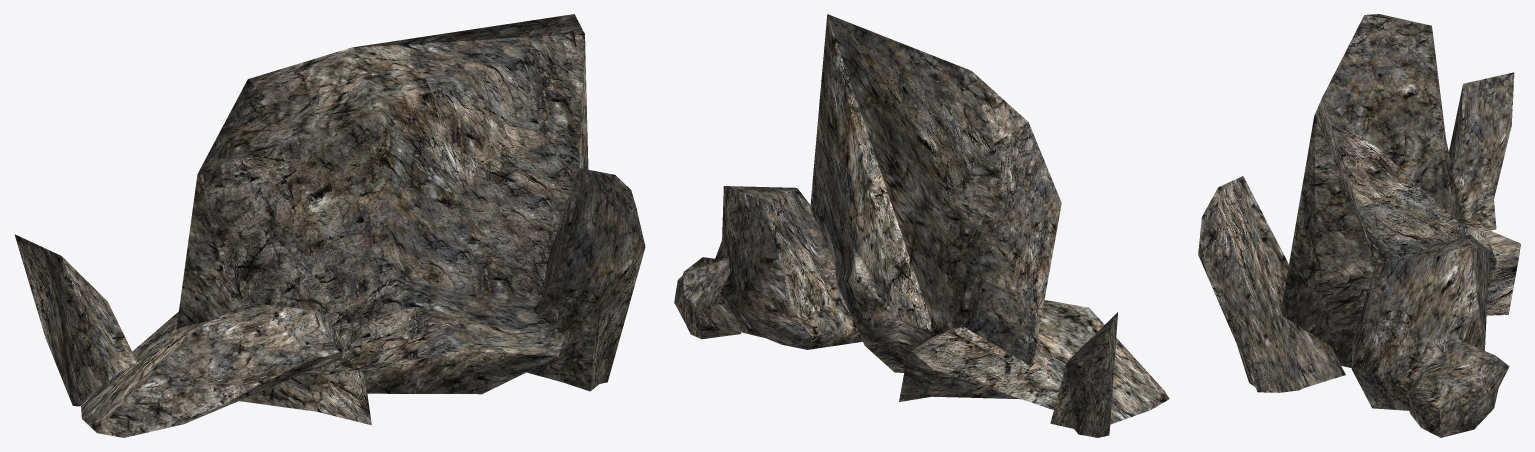
The model's file is pir_m_prp_cav_rockGroup_c.fbx.
The picture shows the model from 3 angles, left to right: view 1: azimuth 30°, elevation 25°; view 2: azimuth 150°, elevation 25°; view 3: azimuth 270°, elevation 25°; orthographic projection. The views are drawn at different scales.
Visible parts, largest first — view 1: bigrock2, small_rock4, small_rock3, small_rock5; view 2: bigrock2, bigrock, small_rock4, small_rock5, middle_rock1; view 3: bigrock2, bigrock, small_rock3, small_rock5, middle_rock1, small_rock4.
Boxes of the visible parts, bbox=[...] form: bigrock2: bbox=[176, 14, 588, 394]; small_rock4: bbox=[80, 302, 371, 437]; small_rock3: bbox=[526, 168, 645, 391]; small_rock5: bbox=[14, 234, 137, 406]; bigrock2: bbox=[810, 14, 1061, 372]; bigrock: bbox=[714, 186, 862, 349]; small_rock4: bbox=[899, 300, 1169, 424]; small_rock5: bbox=[1050, 312, 1117, 437]; middle_rock1: bbox=[674, 257, 740, 339]; bigrock2: bbox=[1281, 14, 1496, 367]; bigrock: bbox=[1351, 235, 1489, 410]; small_rock3: bbox=[1198, 176, 1345, 392]; small_rock5: bbox=[1449, 72, 1514, 230]; middle_rock1: bbox=[1406, 337, 1509, 437]; small_rock4: bbox=[1461, 218, 1520, 315].
Bounding box in the file's own units: 9116 × 5398 × 5182.
1 material, 1 textured.
